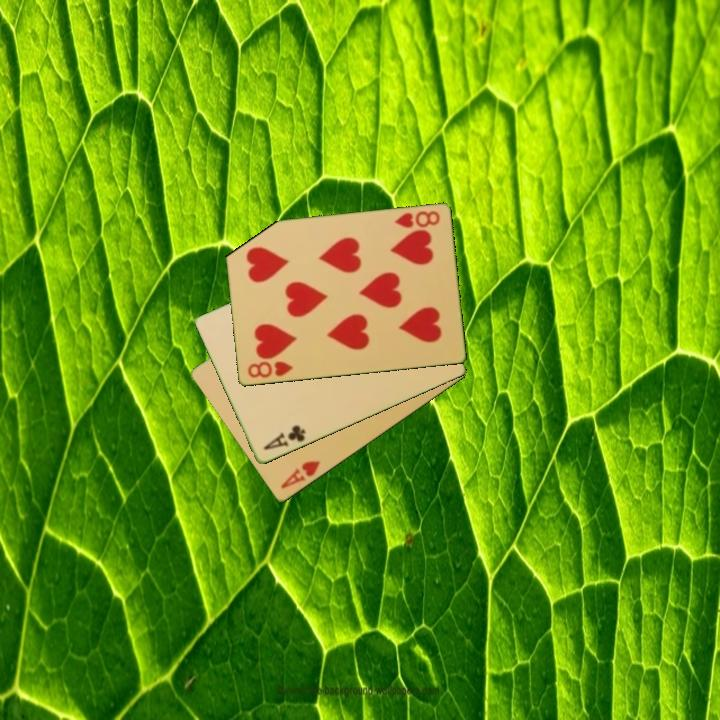8h: (390, 208, 443, 231), (244, 358, 296, 381)
Ac: (260, 422, 308, 454)
Ah: (277, 457, 323, 492)
